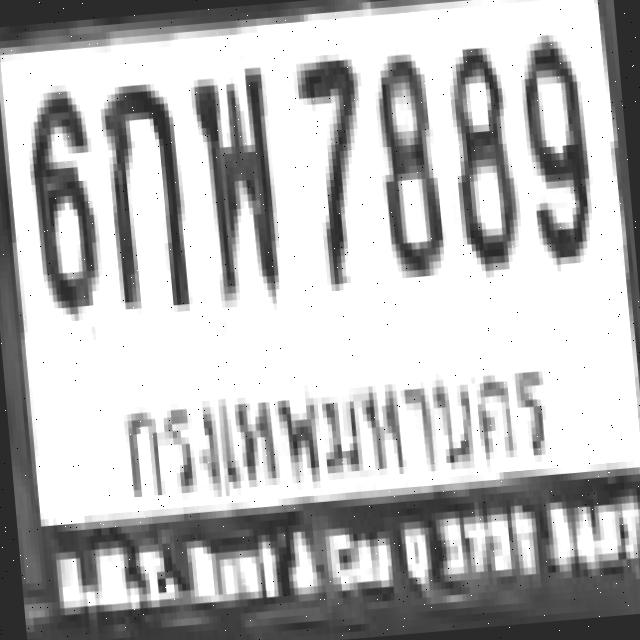10GorGai: (98, 75, 188, 310)
39PhorPan: (188, 64, 280, 298)
6: (22, 83, 97, 309)
7: (292, 52, 371, 286)
8: (366, 46, 442, 272), (442, 39, 516, 266)
9: (512, 26, 592, 260)
Bangkok: (106, 344, 562, 518)
